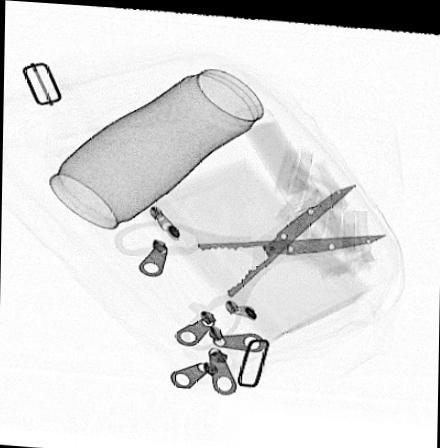Scissors: (112, 179, 384, 348)
